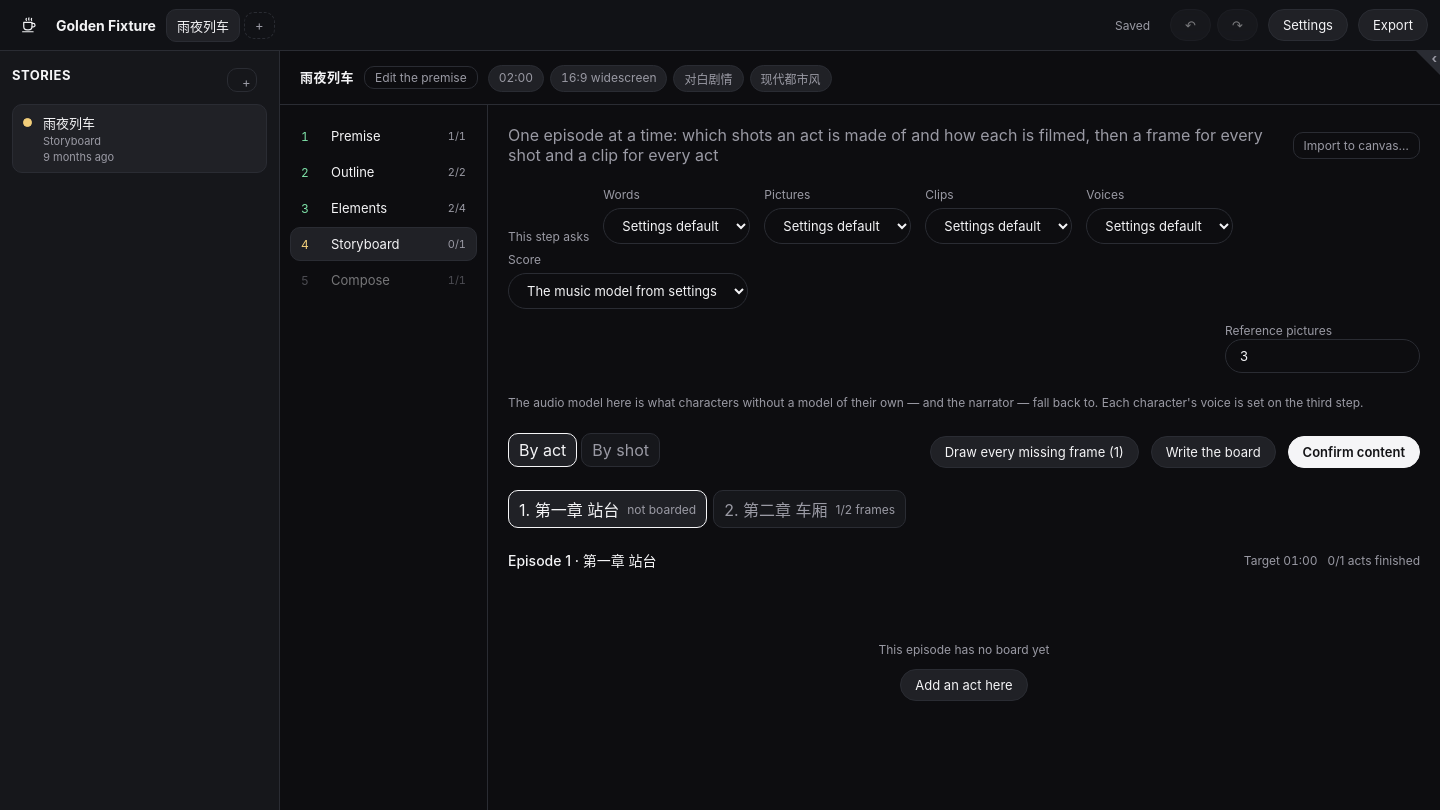
splitting again › says what it costs before it writes over a board, and does nothing if refused
The width and height of the screenshot is (1440, 810).
Click the tab with test id "story-step-outline".
click(384, 172)  # box top-left (290, 155), bottom-right (477, 189)
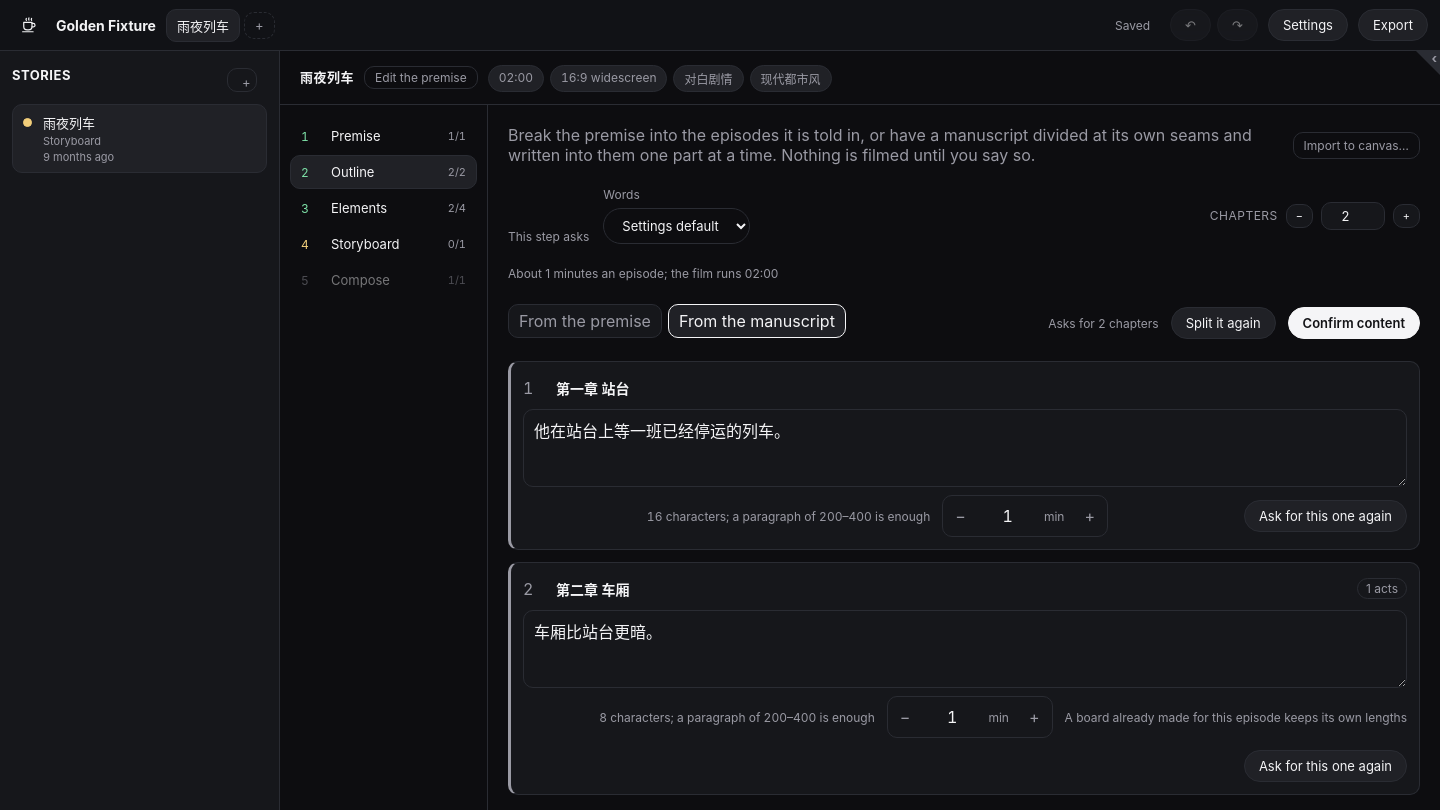
Replace the text in the number field with test id "story-outline-chapters" with "1" at (1353, 216), box top-left (1321, 202), bottom-right (1385, 230)
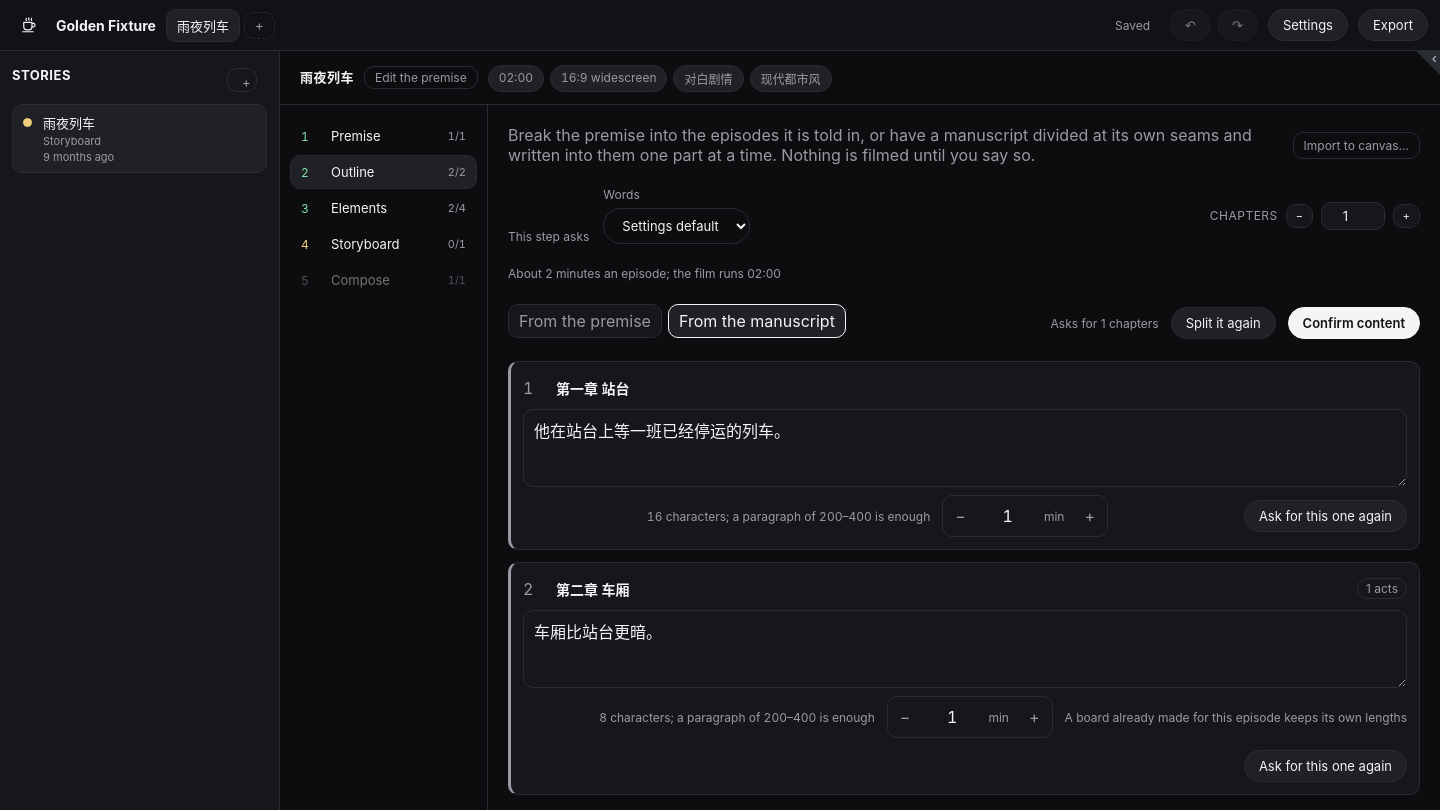
Click the button with test id "story-outline-start".
click(1223, 323)  # box top-left (1171, 307), bottom-right (1276, 339)
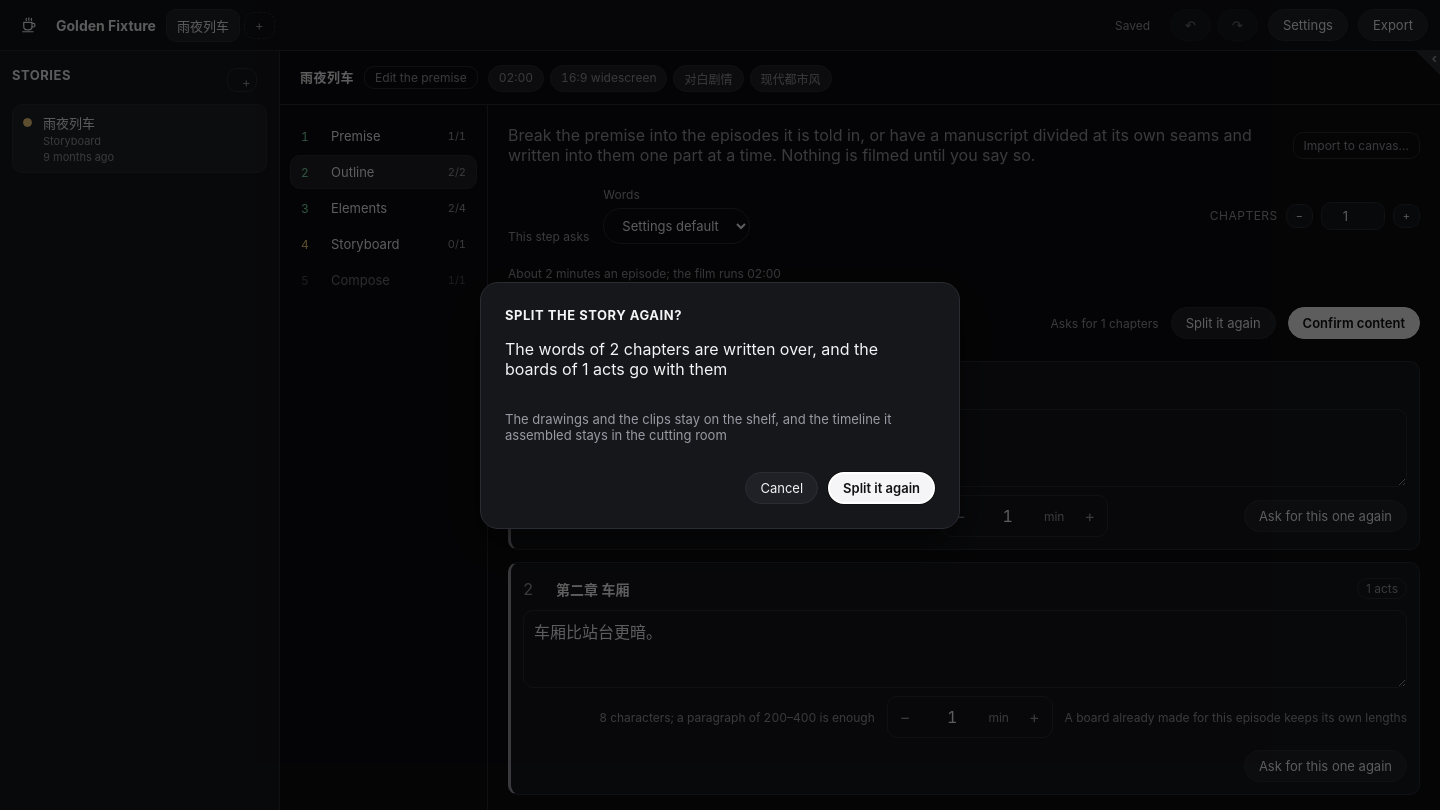
Result: the dialog with test id "resplit-story" shows "2 chapters" at top-left (505, 338), bottom-right (878, 378)
Result: the dialog with test id "resplit-story" shows "1 acts" at top-left (505, 338), bottom-right (878, 378)
Click the button "Cancel".
click(782, 488)  # box top-left (745, 472), bottom-right (818, 504)
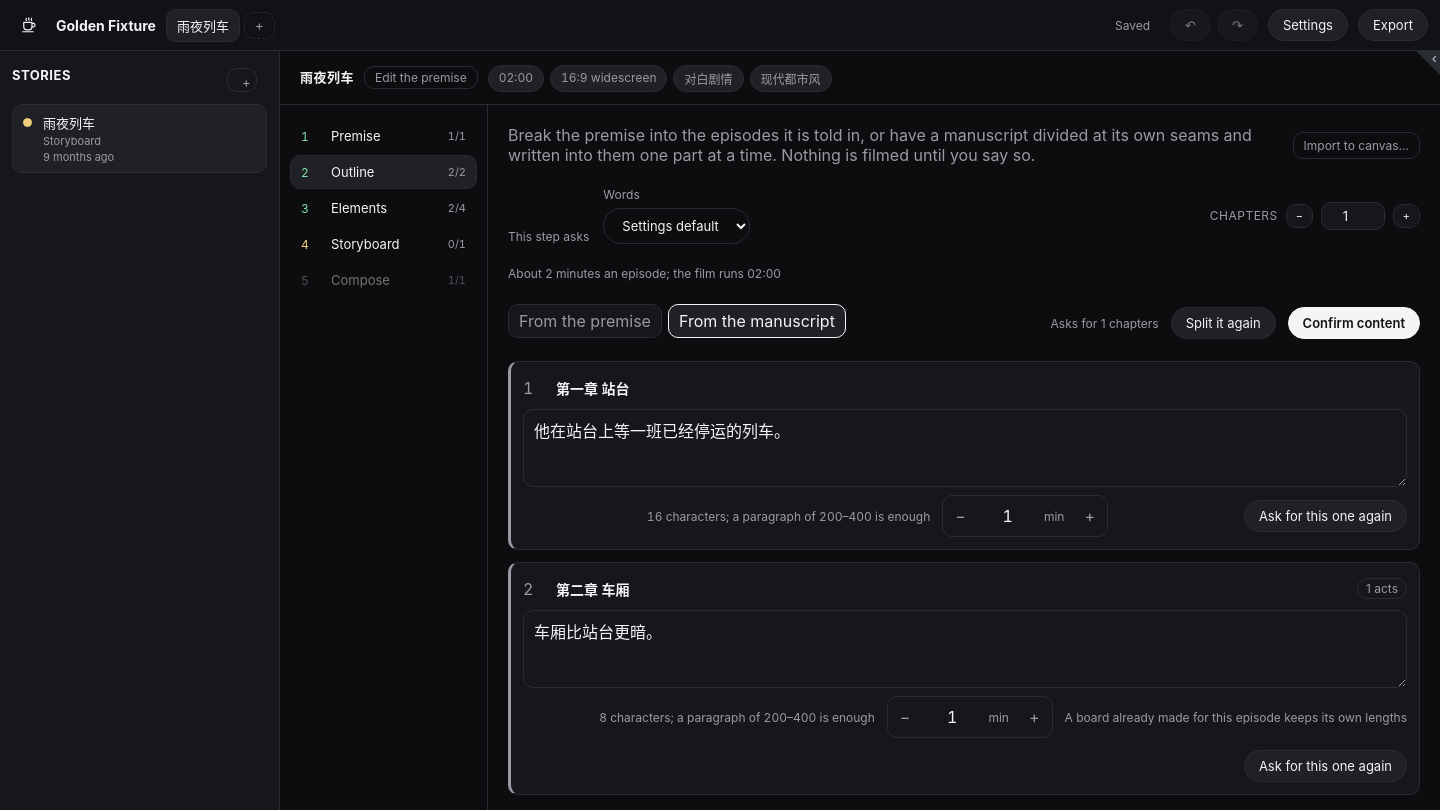
Result: the dialog with test id "resplit-story" is gone
